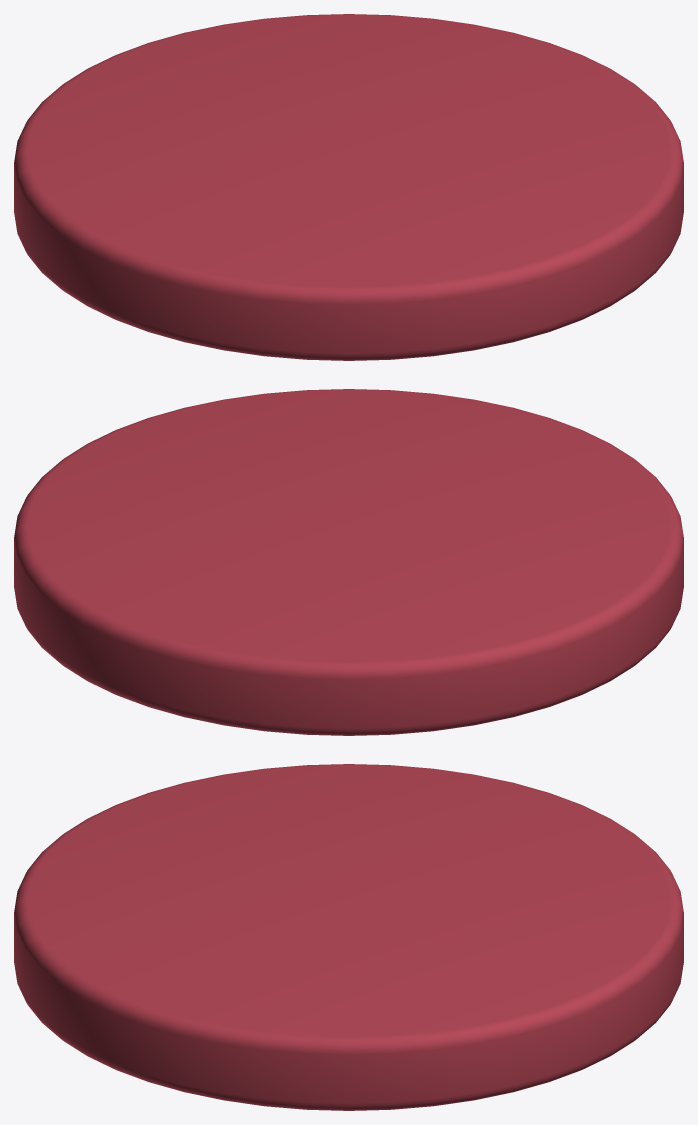
File: chip.glb
3 renders of one model, top to bottom at view 1: azimuth 30°, elevation 25°; view 2: azimuth 150°, elevation 25°; view 3: azimuth 270°, elevation 25°, orthographic.
Parts seen in each view (by area): view 1: ChipBody; view 2: ChipBody; view 3: ChipBody.
Boxes of the visible parts, box(x1,y1,x2,y2) form: ChipBody: box(14, 14, 683, 360); ChipBody: box(14, 389, 683, 735); ChipBody: box(14, 764, 683, 1110).
Bounding box in the file's own units: 1 × 0.12 × 1.
